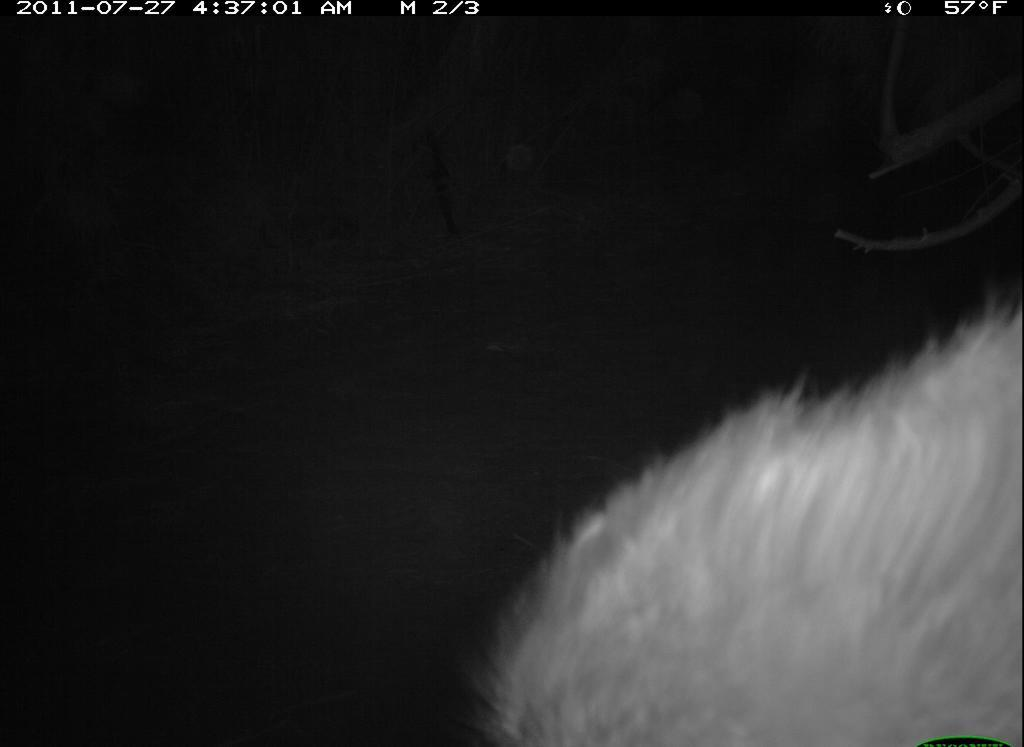raccoon: (478, 295, 1022, 747)
